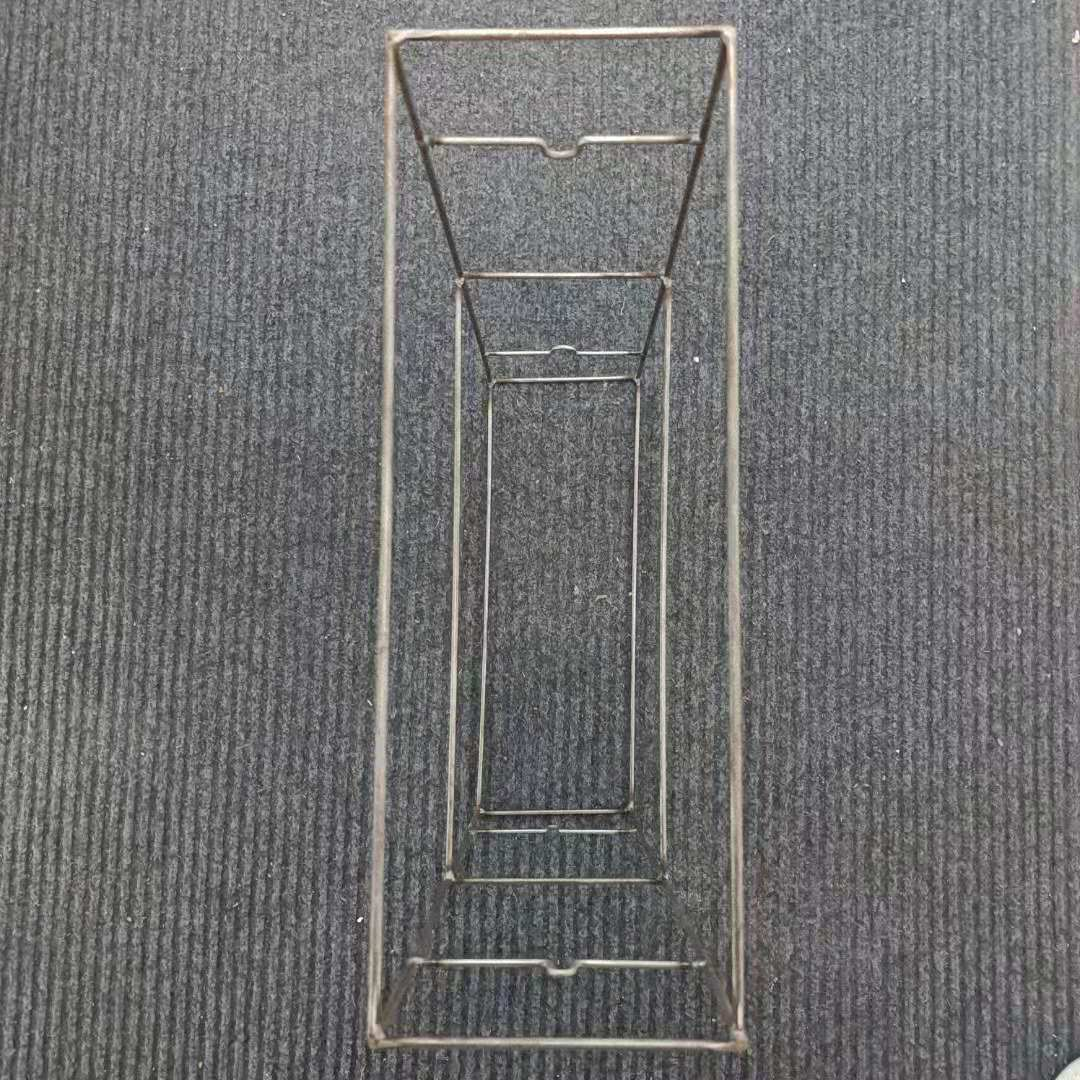curvedhole: (510, 118, 597, 178), (530, 938, 596, 989), (536, 319, 582, 365)
